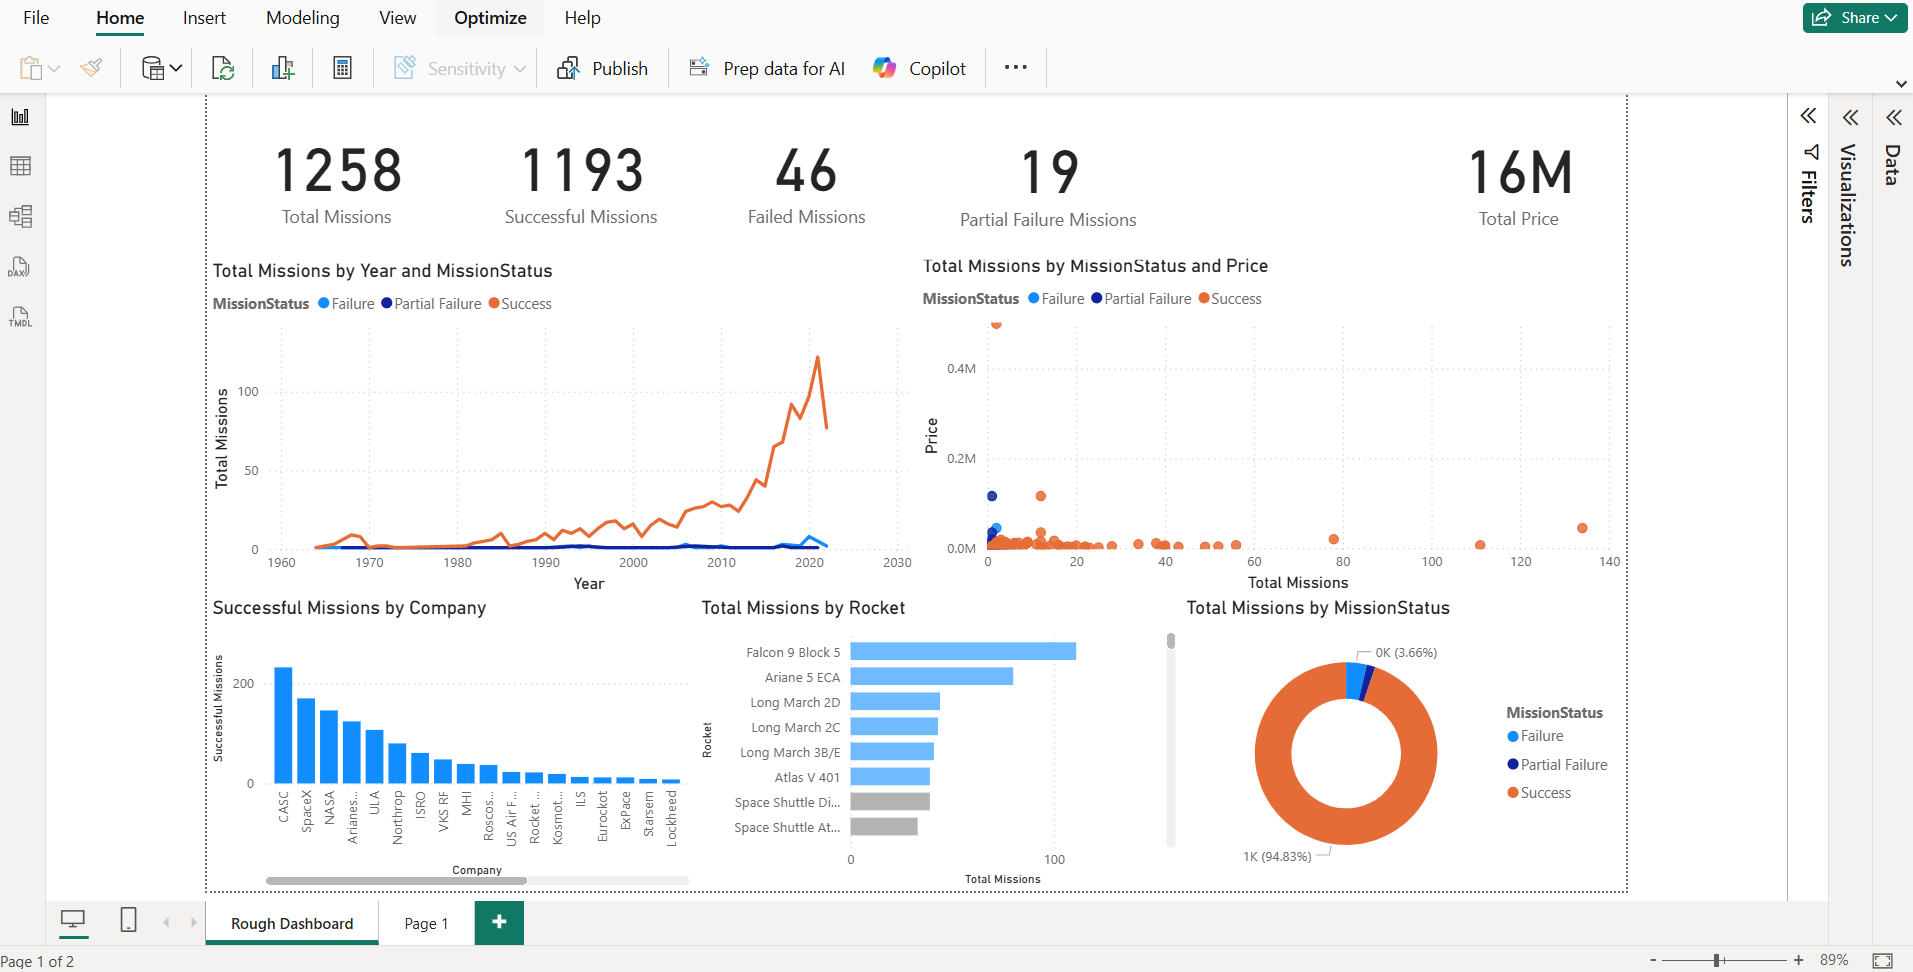

The dashboard page shown, as its layout file describes it:
{"tool":"powerbi","page":{"name":"Rough Dashboard","canvas":[1280,720],"ordinal":0},"visuals":[{"type":"lineChart","fields":{"Category":["Date Table.Year"],"Y":["All Measures.Total Missions"],"Series":["space_missions.MissionStatus"]},"box":[0,149.5,640.4,305.1],"z":0},{"type":"columnChart","fields":{"Y":["All Measures.Successful Missions"],"Category":["space_missions.Company"]},"box":[0,454.7,440.2,265.3],"z":1000},{"type":"barChart","fields":{"Y":["All Measures.Total Missions"],"Category":["space_missions.Rocket"]},"box":[440.2,454.7,437.8,265.3],"z":2000},{"type":"donutChart","fields":{"Y":["All Measures.Total Missions"],"Series":["space_missions.MissionStatus"]},"box":[878,454.7,401.6,264.1],"z":3000},{"type":"scatterChart","fields":{"X":["All Measures.Total Missions"],"Series":["space_missions.MissionStatus"],"Y":["space_missions.Price"]},"box":[640.4,145.9,639.2,308.7],"z":4000},{"type":"card","fields":{"Values":["All Measures.Total Missions"]},"box":[0,0,234,145.9],"z":5000},{"type":"card","fields":{"Values":["All Measures.Successful Missions"]},"box":[234,0,206.2,145.9],"z":6000},{"type":"card","fields":{"Values":["All Measures.Failed Missions"]},"box":[440.2,0,200.2,145.9],"z":7000},{"type":"card","fields":{"Values":["All Measures.Partial Failure Missions"]},"box":[640,0,237,150],"z":8000},{"type":"card","fields":{"Values":["All Measures.Total Price"]},"box":[1086.6,0,193,149.5],"z":9000}]}

Visuals, with their boxes on the page's 1280x720 design canvas (x1, y1, x2, y2). These are canvas units, not pixel positions in the 1913x972 screenshot, which may show the page scaled, cropped or inside an application window:
lineChart - Date Table.Year x All Measures.Total Missions: bbox=(0, 150, 640, 455)
columnChart - All Measures.Successful Missions x space_missions.Company: bbox=(0, 455, 440, 720)
barChart - All Measures.Total Missions x space_missions.Rocket: bbox=(440, 455, 878, 720)
donutChart - All Measures.Total Missions x space_missions.MissionStatus: bbox=(878, 455, 1280, 719)
scatterChart - All Measures.Total Missions x space_missions.MissionStatus: bbox=(640, 146, 1280, 455)
card - All Measures.Total Missions: bbox=(0, 0, 234, 146)
card - All Measures.Successful Missions: bbox=(234, 0, 440, 146)
card - All Measures.Failed Missions: bbox=(440, 0, 640, 146)
card - All Measures.Partial Failure Missions: bbox=(640, 0, 877, 150)
card - All Measures.Total Price: bbox=(1087, 0, 1280, 150)
